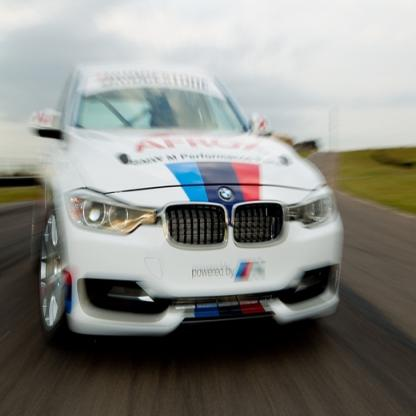Vehicle: (18, 57, 354, 364)
